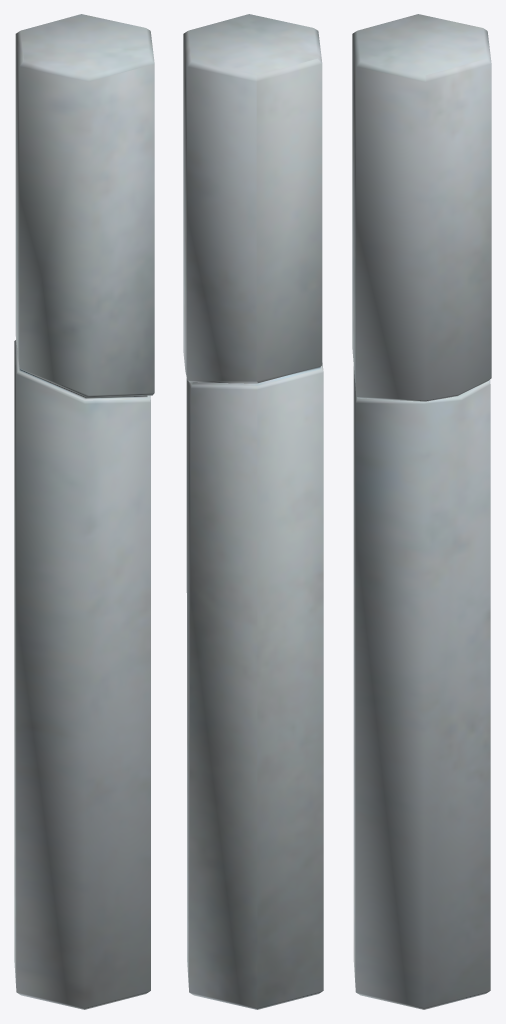
The model's file is P_RockHexic_Piece17.obj.
The picture shows the model from 3 angles, left to right: view 1: azimuth 30°, elevation 25°; view 2: azimuth 150°, elevation 25°; view 3: azimuth 270°, elevation 25°; orthographic projection.
Bounding box in the file's own units: 4.06 × 26.41 × 3.56.
